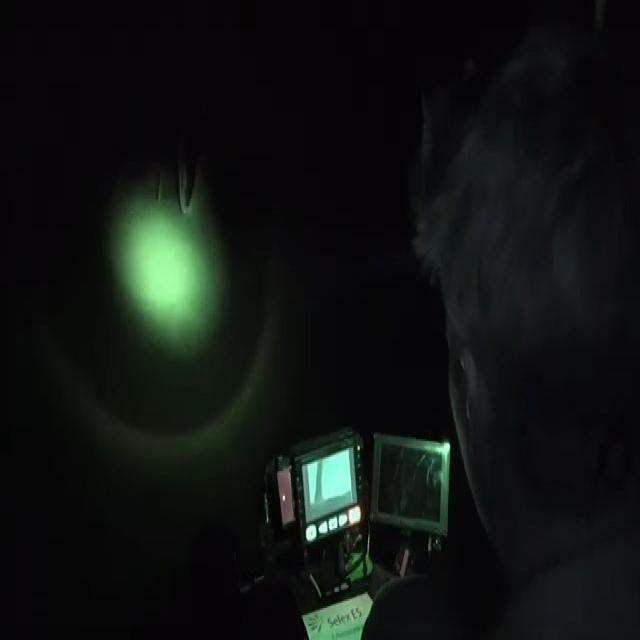device: (251, 383, 453, 640)
human: (412, 48, 640, 640)
